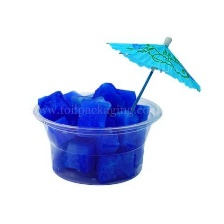glass: (21, 86, 173, 186)
